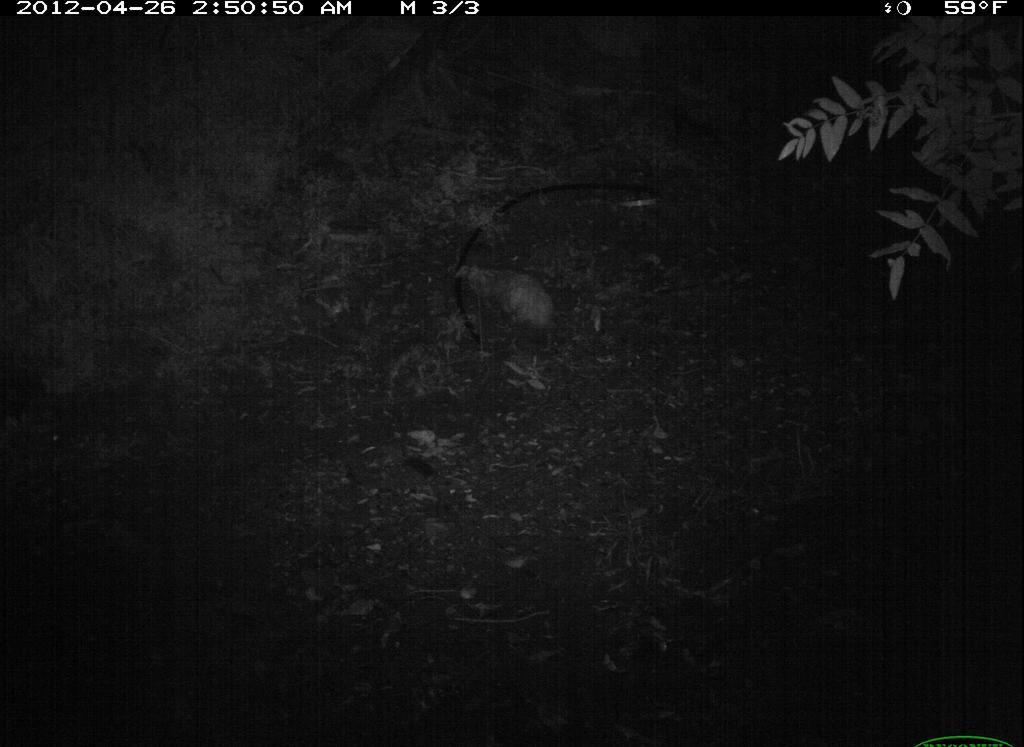opossum: (459, 258, 582, 365)
